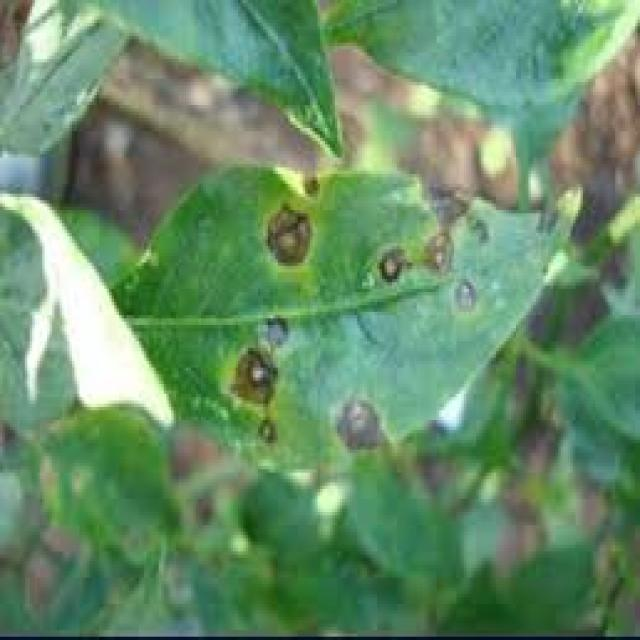bercak_daun: (124, 146, 586, 460)
